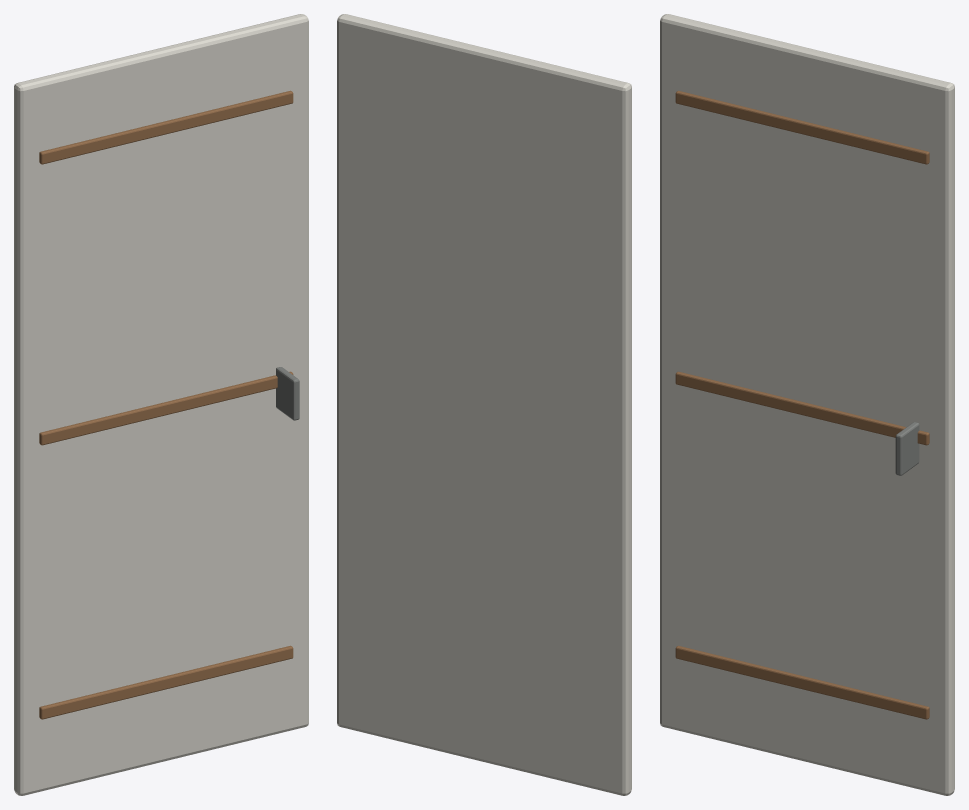
File: ikea_solid_door_leaf.glb
3 renders of one model, left to right at view 1: azimuth 30°, elevation 25°; view 2: azimuth 150°, elevation 25°; view 3: azimuth 330°, elevation 25°, orthographic.
Visible parts, largest first — view 1: SolidDoor_Panel, SolidDoor_Panel_Rail, SolidDoor_Panel_Rail.002, SolidDoor_Panel_Rail.001, SolidDoor_Handle; view 2: SolidDoor_Panel; view 3: SolidDoor_Panel, SolidDoor_Panel_Rail, SolidDoor_Panel_Rail.002, SolidDoor_Panel_Rail.001, SolidDoor_Handle.
Boxes of the visible parts, x1,y1,x2,y2 form: SolidDoor_Panel: [14, 14, 308, 795]; SolidDoor_Panel_Rail: [39, 645, 293, 719]; SolidDoor_Panel_Rail.002: [39, 90, 293, 164]; SolidDoor_Panel_Rail.001: [39, 371, 293, 445]; SolidDoor_Handle: [276, 367, 299, 420]; SolidDoor_Panel: [337, 14, 631, 795]; SolidDoor_Panel: [660, 14, 954, 795]; SolidDoor_Panel_Rail: [675, 645, 929, 719]; SolidDoor_Panel_Rail.002: [675, 90, 929, 164]; SolidDoor_Panel_Rail.001: [675, 371, 929, 445]; SolidDoor_Handle: [895, 422, 919, 475].
Bounding box in the file's own units: 0.9 × 2.1 × 0.14.
